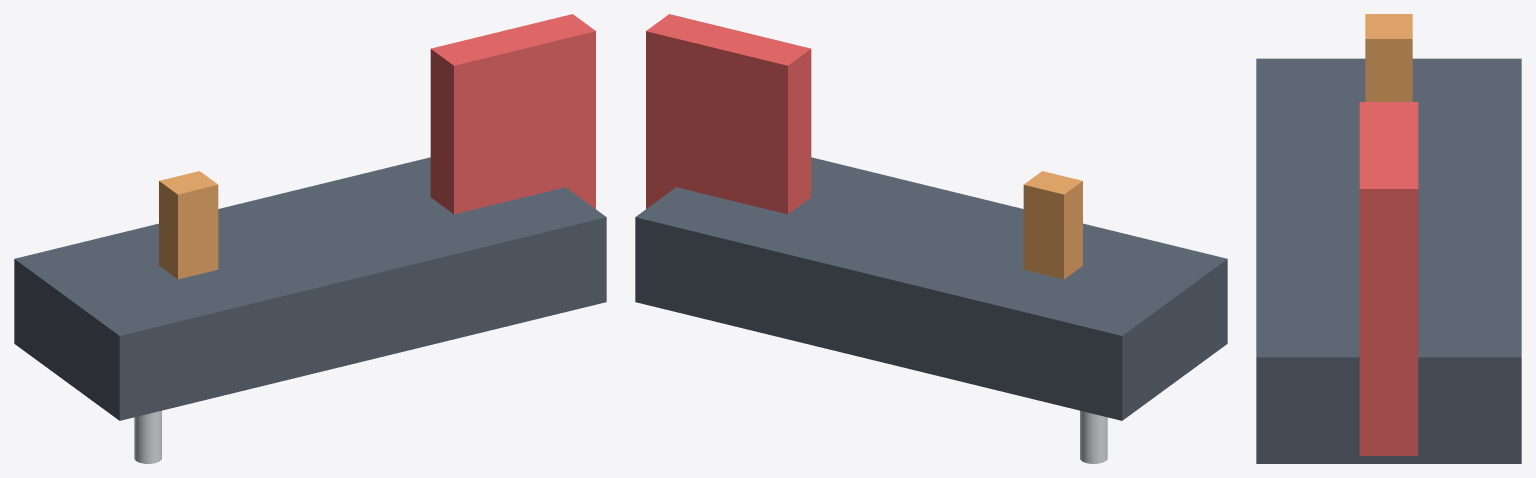
Rendered from multiplexer_demux_decoder_ic.glb.
3 renders of one model, left to right at view 1: azimuth 30°, elevation 25°; view 2: azimuth 150°, elevation 25°; view 3: azimuth 270°, elevation 25°, orthographic. The views are drawn at different scales.
Parts seen in each view (by area): view 1: DIP16MultiplexerICPackage, SevenSegmentLEDNumericDisplay, BinaryChannelSelectSwitches, ActiveLowChipEnablePins; view 2: DIP16MultiplexerICPackage, SevenSegmentLEDNumericDisplay, BinaryChannelSelectSwitches, ActiveLowChipEnablePins; view 3: DIP16MultiplexerICPackage, SevenSegmentLEDNumericDisplay, BinaryChannelSelectSwitches.
Boxes of the visible parts, <box> form: DIP16MultiplexerICPackage: <box>14,157,606,420</box>; SevenSegmentLEDNumericDisplay: <box>430,14,595,214</box>; BinaryChannelSelectSwitches: <box>159,171,218,279</box>; ActiveLowChipEnablePins: <box>134,410,161,463</box>; DIP16MultiplexerICPackage: <box>635,157,1227,420</box>; SevenSegmentLEDNumericDisplay: <box>646,14,811,214</box>; BinaryChannelSelectSwitches: <box>1023,171,1082,279</box>; ActiveLowChipEnablePins: <box>1080,410,1107,463</box>; DIP16MultiplexerICPackage: <box>1256,58,1521,463</box>; SevenSegmentLEDNumericDisplay: <box>1359,102,1418,455</box>; BinaryChannelSelectSwitches: <box>1365,14,1412,101</box>.
Size of the model in its own units: 1.28 by 0.775 by 0.45.
